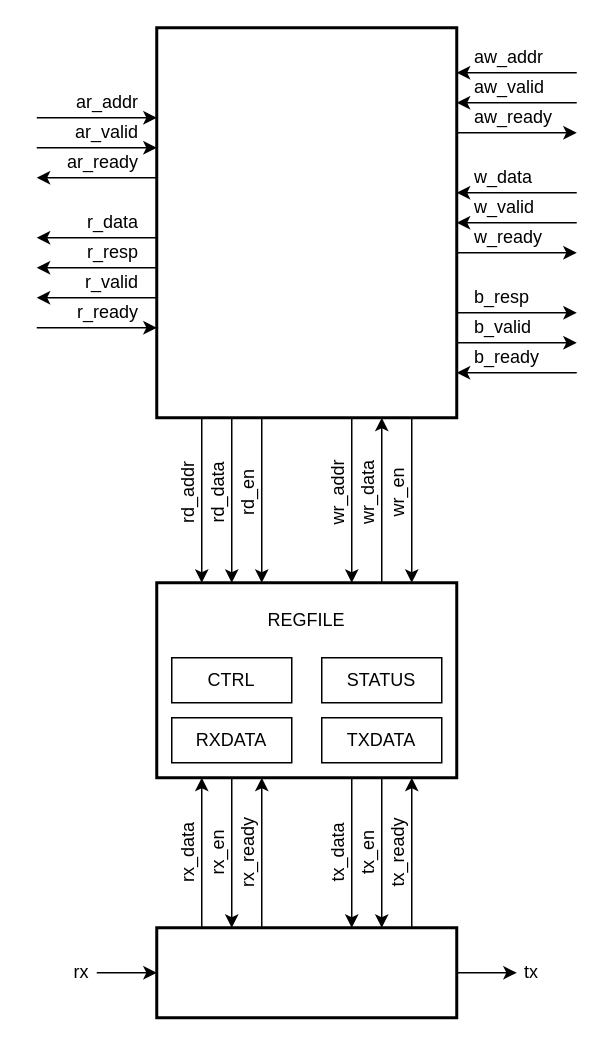
Image size: 615x1044. Some labels were removed from this diagram. The shapes that lost their labels are listed below. From the top down, each one's centre as x and y in pixels, then its label:
the point at 306,222: AXI4 LITE SLAVE
the point at 306,972: UART CORE
